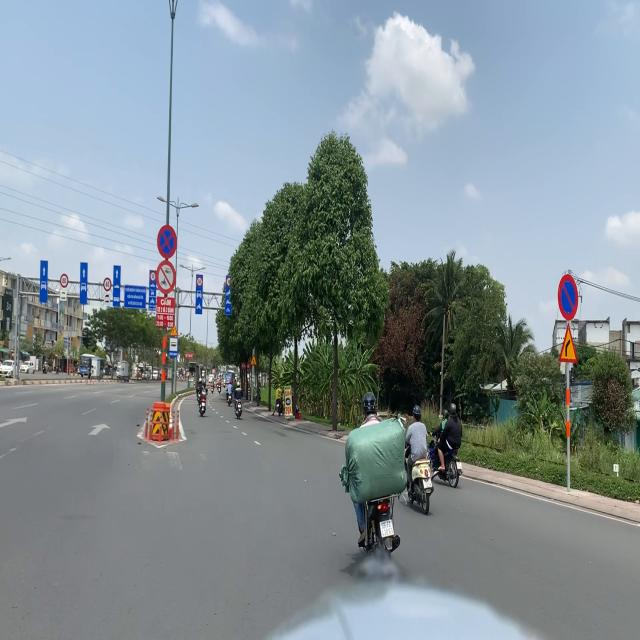Ben xe buyt: (169, 337, 178, 357)
Cam con lai: (156, 260, 176, 295)
Cam do: (558, 274, 578, 321)
Cam dung va do: (156, 224, 178, 259)
Nguoi di bo cat ngang: (250, 354, 258, 365)
Nguy hiem: (557, 322, 578, 363), (170, 324, 178, 336)
Toc do toi da: (103, 277, 112, 292), (60, 274, 68, 288), (150, 272, 156, 282), (226, 277, 232, 287), (197, 277, 202, 286)
